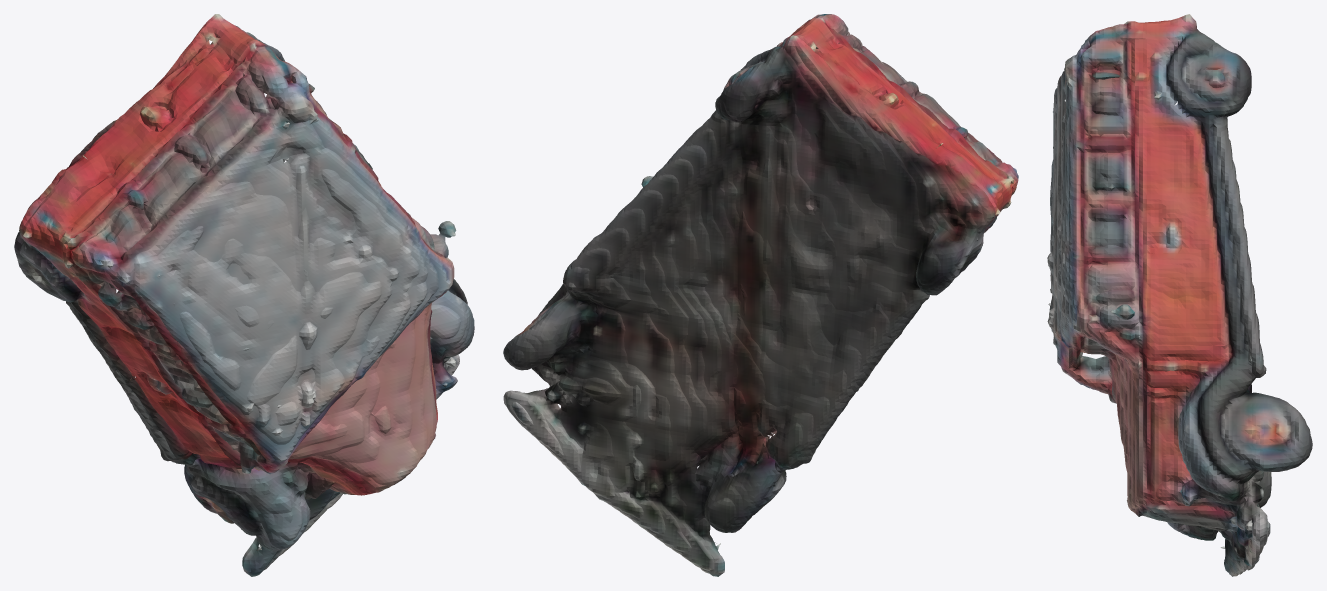
File: 000016_bus_usa_antique car.glb
The picture shows the model from 3 angles, left to right: view 1: azimuth 30°, elevation 25°; view 2: azimuth 150°, elevation 25°; view 3: azimuth 270°, elevation 25°; orthographic projection. The views are drawn at different scales.
Visible parts, largest first — view 1: world; view 2: world; view 3: world.
Boxes of the visible parts, x1=… form: world: x1=14, y1=14, x2=474, y2=576; world: x1=503, y1=14, x2=1018, y2=576; world: x1=1047, y1=14, x2=1312, y2=576.
Bounding box in the file's own units: 0.8909 × 1.03 × 0.4638.
